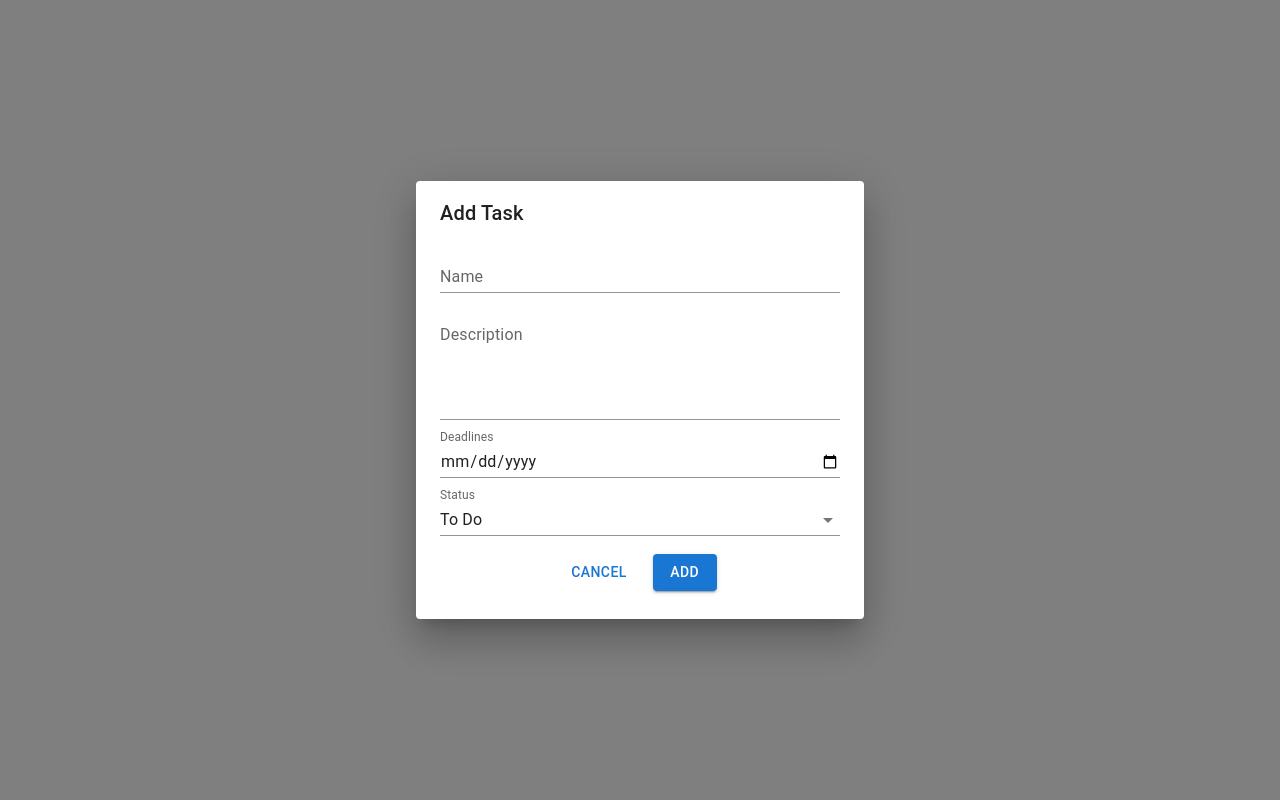
TaskForm › shows error message if required fields are missing
What coordinates should you click on to do the following:
click the button with test id "submit-button"
I would click on:
 (685, 573)
Its box is [653,554,717,591].
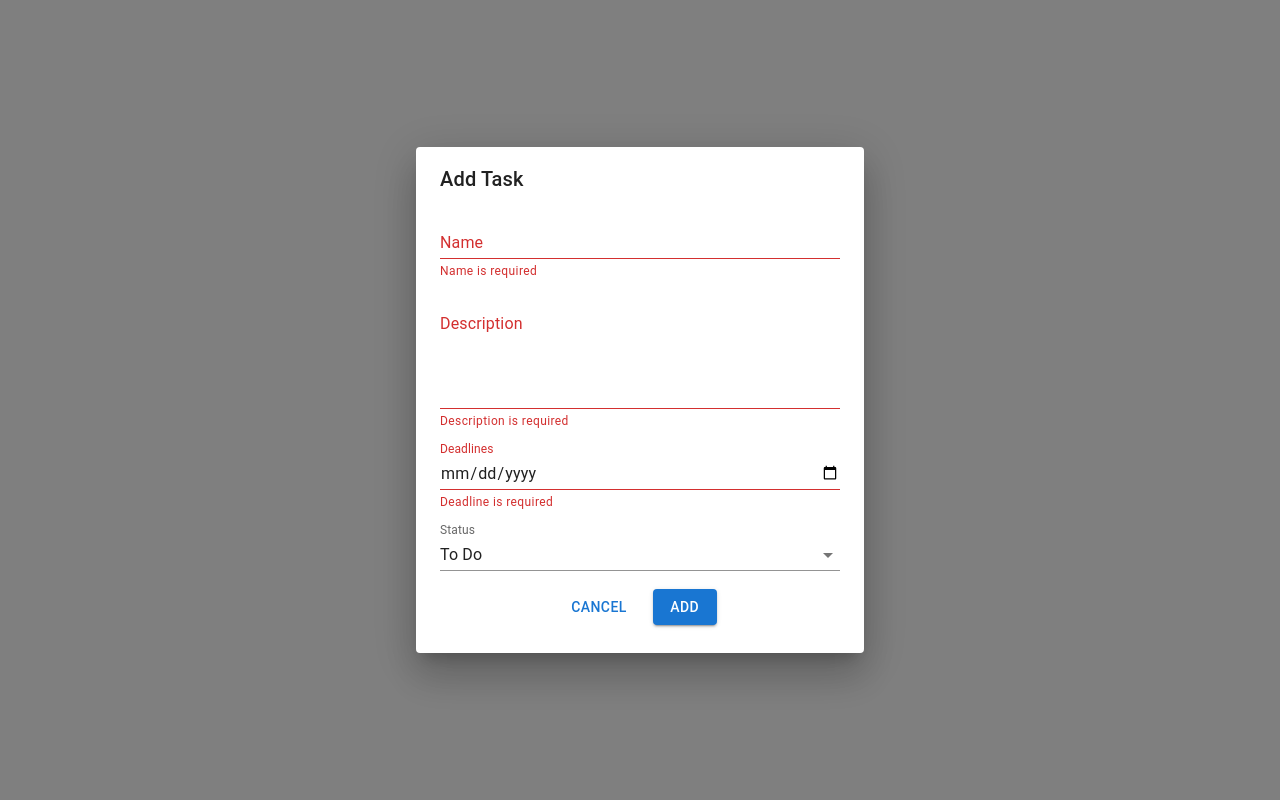
Now the text "Name is required" is shown, box [440,264,537,278]
Now the text "Description is required" is shown, box [440,414,569,428]
Now the text "Deadline is required" is shown, box [440,495,553,509]
